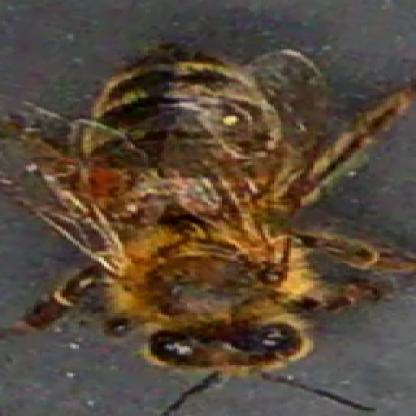bee: (74, 45, 334, 370)
vaoora: (90, 166, 122, 196)
